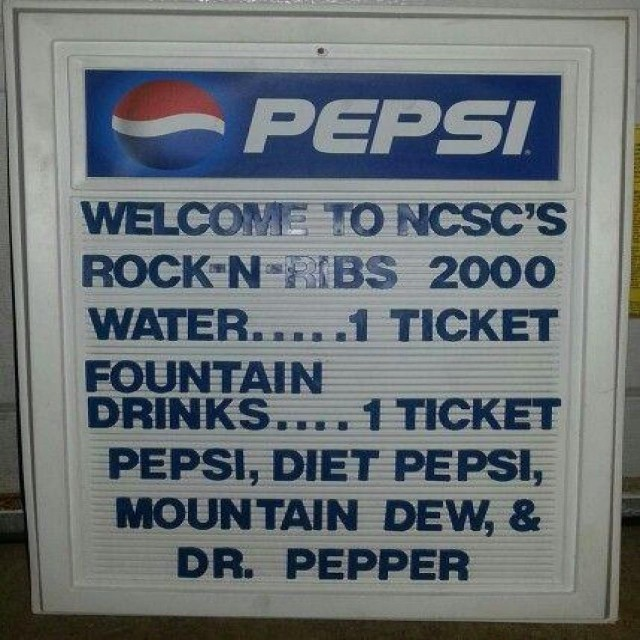pepsi: (108, 75, 229, 174)
